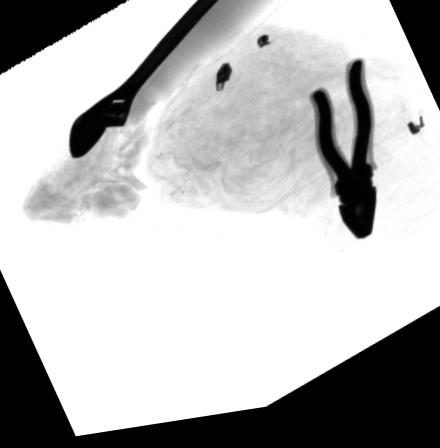Pliers: (308, 71, 379, 253)
Wrench: (67, 0, 226, 160)
